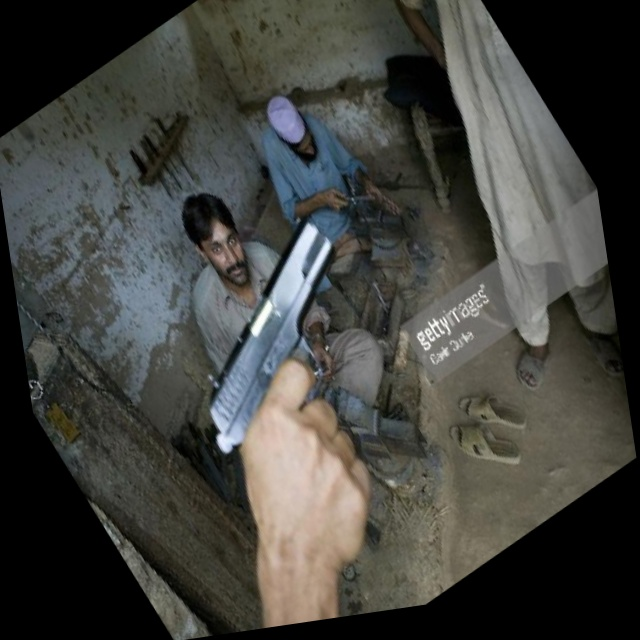gun: (135, 196, 479, 589)
